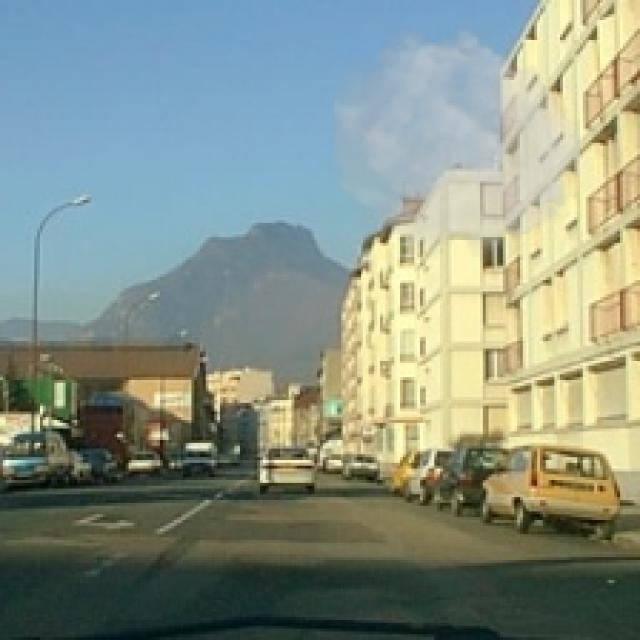Smoke: (334, 20, 580, 263)
